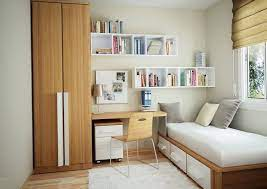Bed: (156, 98, 267, 189)
Chair: (108, 111, 161, 177)
Lamp: (91, 82, 105, 113)
curtain: (231, 0, 267, 53)
